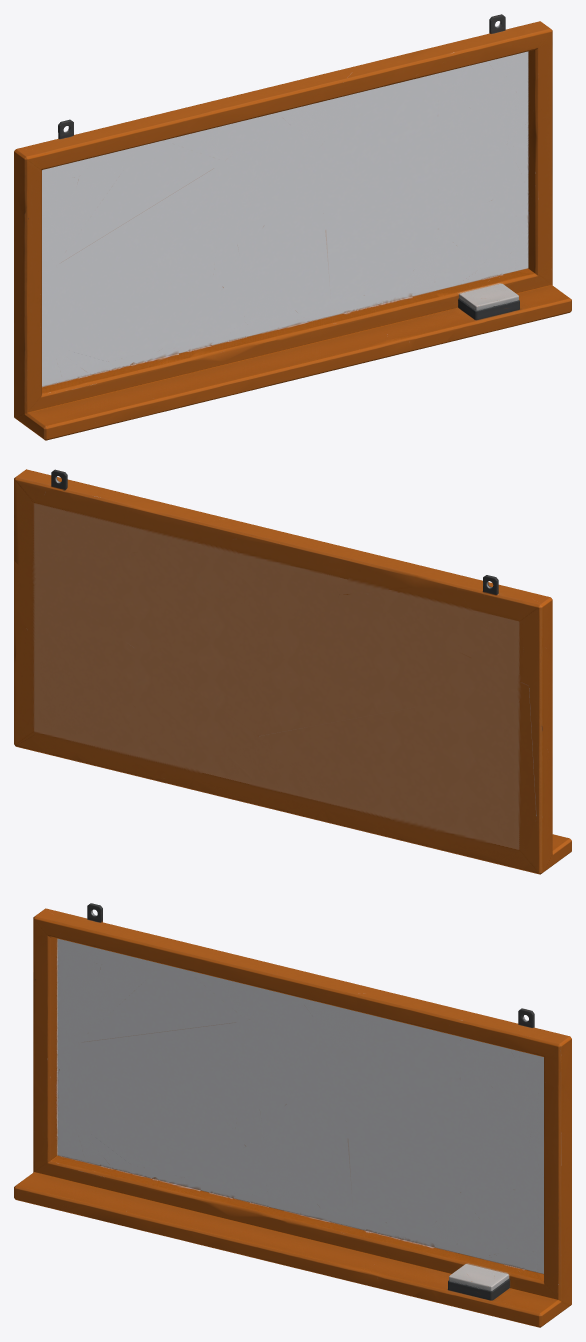
Rendered from Meshy_AI_Framed_Whiteboard_1021045735_texture.fbx.
3 renders of one model, top to bottom at view 1: azimuth 30°, elevation 25°; view 2: azimuth 150°, elevation 25°; view 3: azimuth 330°, elevation 25°, orthographic.
Parts seen in each view (by area): view 1: Mesh_0; view 2: Mesh_0; view 3: Mesh_0.
Boxes of the visible parts, bbox=[...] form: Mesh_0: bbox=[14, 14, 571, 440]; Mesh_0: bbox=[14, 469, 571, 874]; Mesh_0: bbox=[14, 903, 571, 1327].
Bounding box in the file's own units: 190 × 98.44 × 19.98.
Materials: 1 (1 with a texture image).
